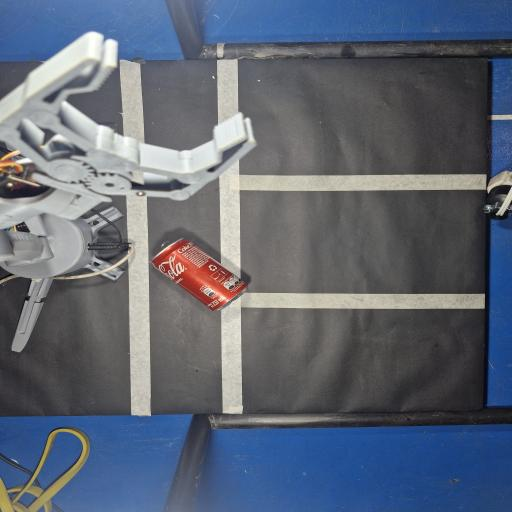lata: (151, 238, 247, 310)
